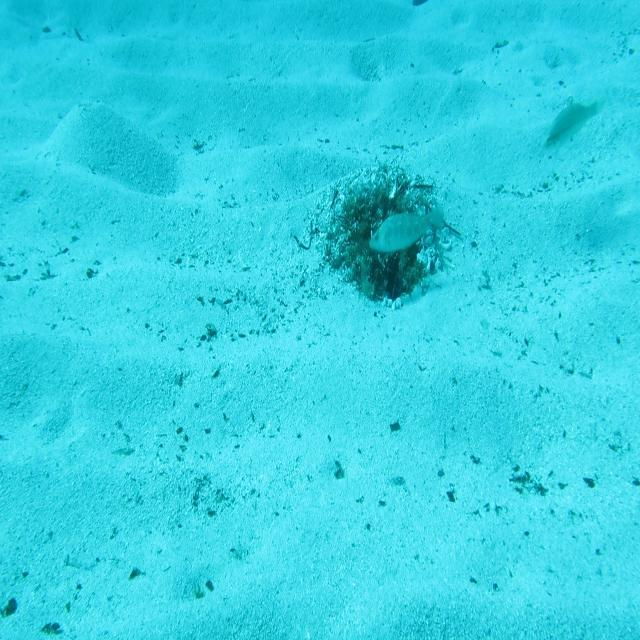BK_SW: (366, 198, 454, 258)
female: (540, 91, 608, 157)
nest: (324, 172, 461, 300)
